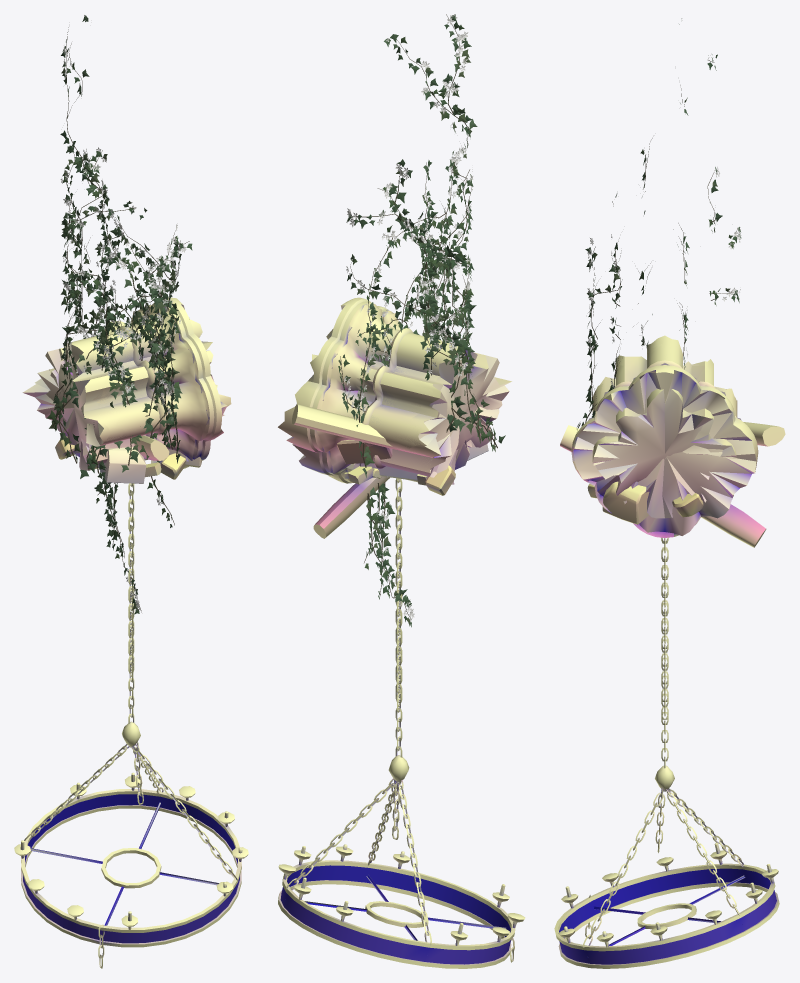
Rendered from props.glb.
3 renders of one model, left to right at view 1: azimuth 30°, elevation 25°; view 2: azimuth 150°, elevation 25°; view 3: azimuth 270°, elevation 25°, orthographic. The views are drawn at different scales.
Parts seen in each view (by area): view 1: chandelier, drum_c, ivy_pier_a, drum_b, ivy_pier_b, drum_a, ivy_wall_a, block_pile, ivy_hang_a, ivy_wall_b, chain, rib_piece; view 2: chandelier, drum_c, ivy_pier_a, drum_b, drum_a, block_pile, ivy_wall_a, ivy_pier_b, ivy_hang_a, rib_piece, ivy_wall_b, chain; view 3: chandelier, drum_c, drum_b, drum_a, block_pile, ivy_pier_a, rib_piece, ivy_pier_b, chain.
Part boxes in pixels (left/top/right/bottom): chandelier: left=14, top=483, right=248, bottom=968; drum_c: left=79, top=297, right=226, bottom=469; ivy_pier_a: left=46, top=15, right=182, bottom=478; drum_b: left=35, top=319, right=231, bottom=468; ivy_pier_b: left=49, top=146, right=192, bottom=477; drum_a: left=22, top=330, right=163, bottom=470; ivy_wall_a: left=86, top=214, right=181, bottom=463; block_pile: left=55, top=321, right=201, bottom=483; ivy_hang_a: left=94, top=471, right=174, bottom=614; ivy_wall_b: left=70, top=268, right=169, bottom=461; chain: left=128, top=483, right=134, bottom=676; rib_piece: left=134, top=435, right=169, bottom=460; chandelier: left=278, top=479, right=525, bottom=968; drum_c: left=278, top=297, right=509, bottom=484; ivy_pier_a: left=346, top=14, right=505, bottom=451; drum_b: left=295, top=342, right=511, bottom=476; drum_a: left=363, top=333, right=469, bottom=484; block_pile: left=292, top=403, right=488, bottom=495; ivy_wall_a: left=355, top=159, right=459, bottom=477; ivy_pier_b: left=400, top=160, right=492, bottom=446; ivy_hang_a: left=364, top=482, right=414, bottom=627; rib_piece: left=313, top=476, right=390, bottom=538; ivy_wall_b: left=338, top=239, right=440, bottom=419; chain: left=395, top=478, right=402, bottom=706; chandelier: left=554, top=537, right=779, bottom=968; drum_c: left=571, top=344, right=758, bottom=537; drum_b: left=592, top=335, right=737, bottom=502; drum_a: left=592, top=345, right=737, bottom=518; block_pile: left=587, top=422, right=785, bottom=524; ivy_pier_a: left=577, top=18, right=741, bottom=430; rib_piece: left=560, top=425, right=766, bottom=547; ivy_pier_b: left=585, top=221, right=715, bottom=411; chain: left=661, top=537, right=668, bottom=719.
Bounding box in the file's own units: 3.75 × 16.14 × 3.64.
